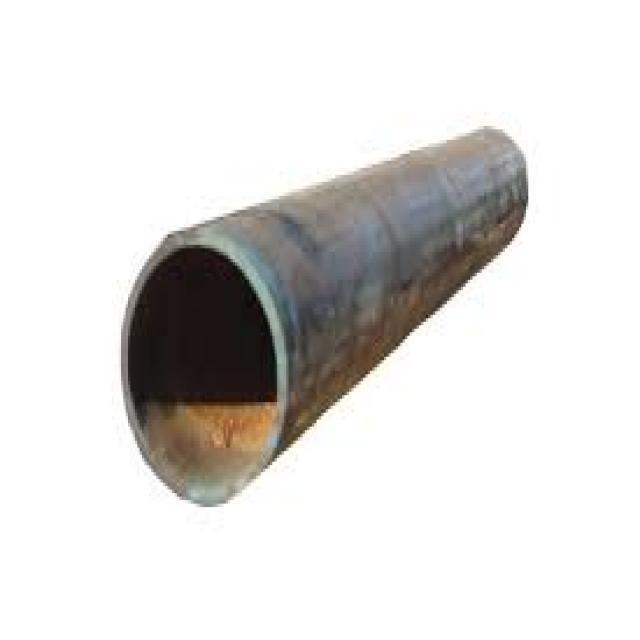pipe: (123, 226, 288, 506)
